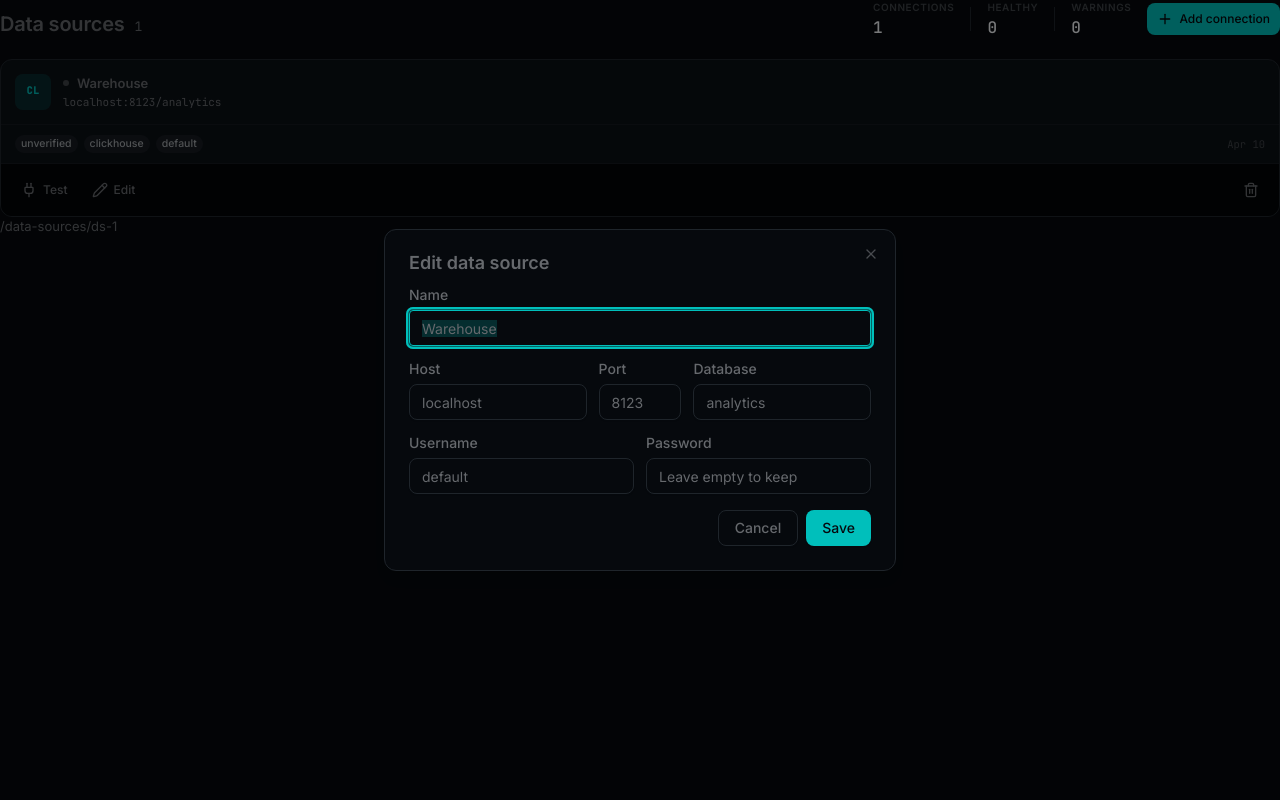
Test: DataSourcesPage › closes a directly opened edit dialog on cancel
Expected: the dialog "Edit data source" is shown, left=384, top=229, right=896, bottom=571
Step 1. Click the button "Cancel" → coordinates (758, 528), box left=718, top=510, right=798, bottom=546
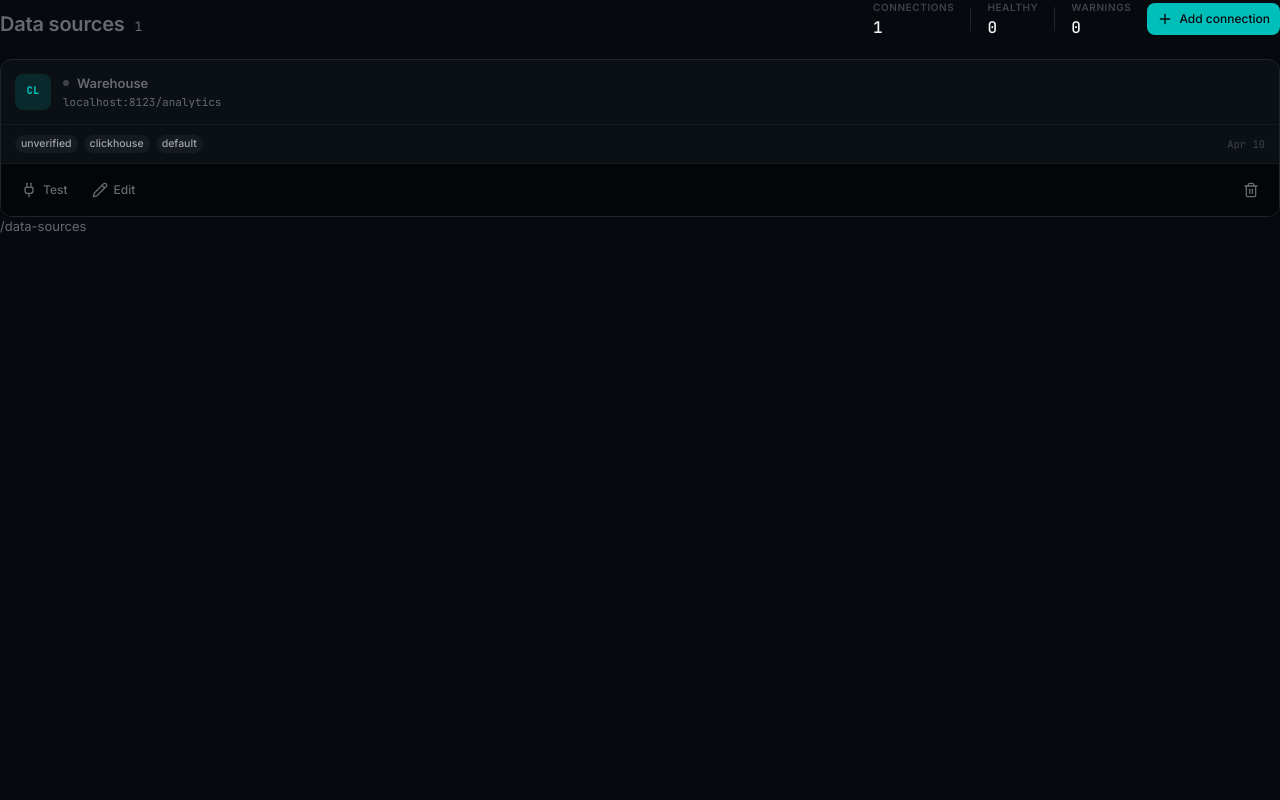
Now the heading "Edit data source" is gone
Now the text with test id "location" reads "/data-sources", box left=0, top=218, right=86, bottom=234
